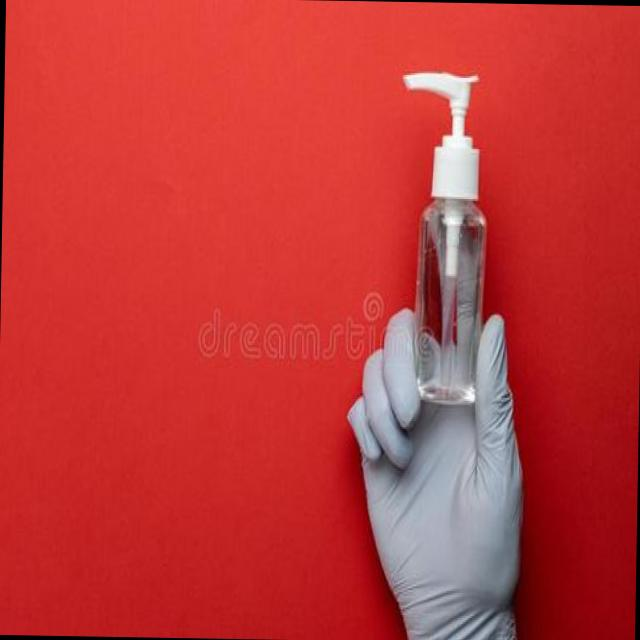sanitizer: (392, 67, 487, 400)
